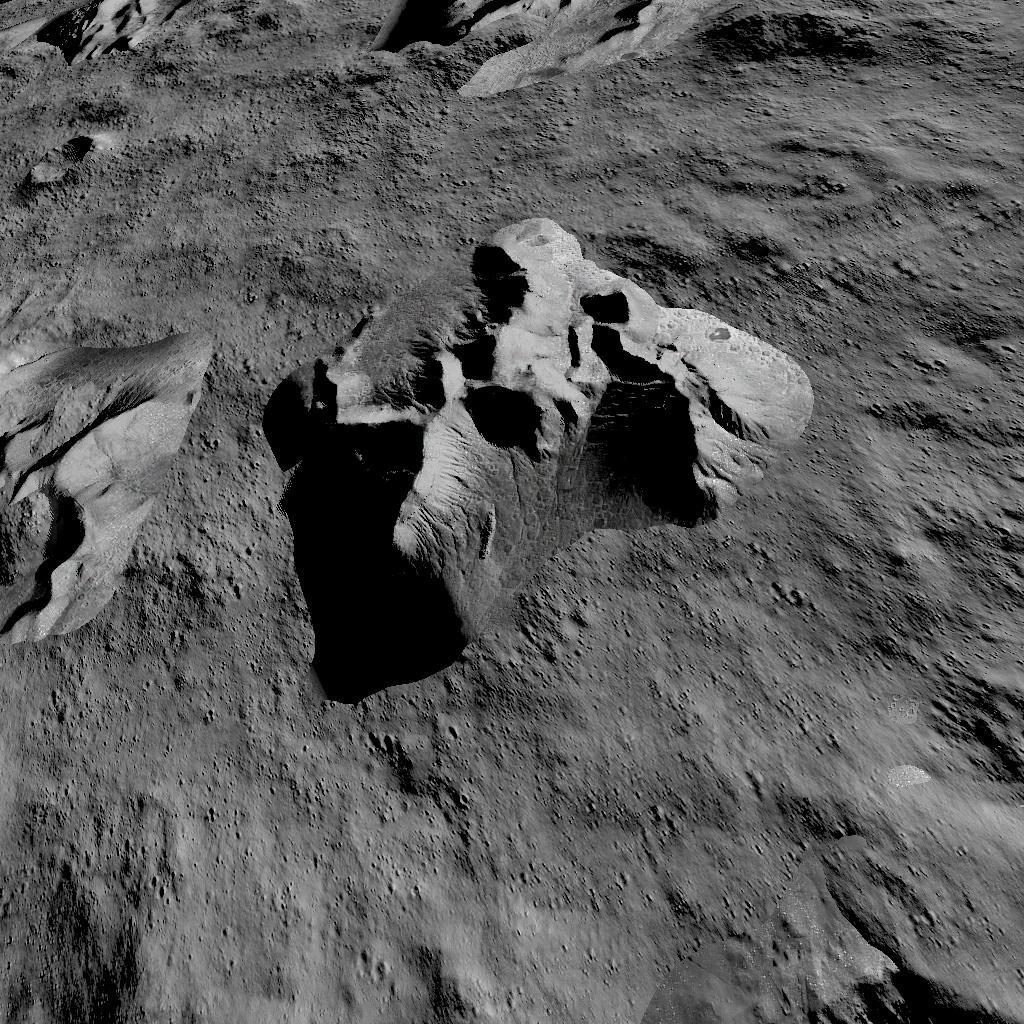Boulders: (269, 212, 817, 698), (3, 286, 206, 664), (364, 0, 694, 82), (709, 0, 1024, 53), (7, 0, 283, 53)
Crater: (733, 920, 1024, 1024), (937, 675, 1024, 802), (16, 119, 112, 202)
Plan surface: (10, 715, 714, 1024), (834, 226, 1020, 646), (398, 92, 1024, 194), (734, 712, 918, 893), (128, 72, 352, 189)
